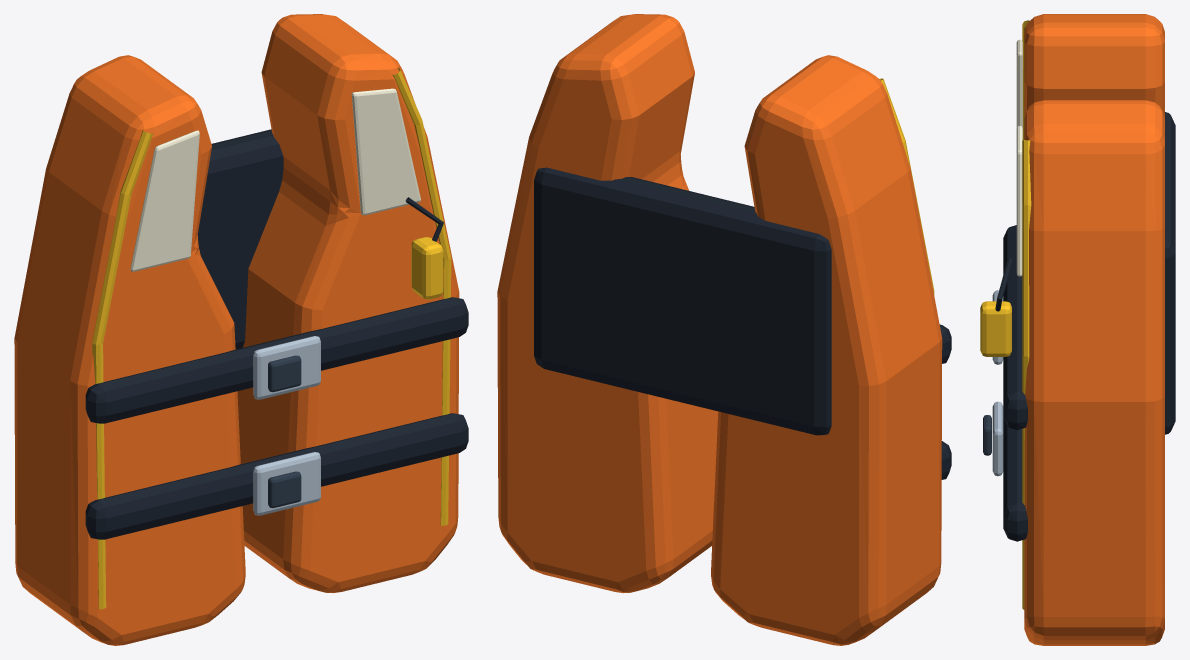
Rendered from LifeJacket.fbx.
3 views of the same model, side by side, from view 1: azimuth 30°, elevation 25°; view 2: azimuth 150°, elevation 25°; view 3: azimuth 270°, elevation 25° (orthographic). The views are drawn at different scales.
Visible parts, largest first — view 1: LifeJacket; view 2: LifeJacket; view 3: LifeJacket.
Boxes of the visible parts, x1,y1,x2,y2 form: LifeJacket: (14,14,468,645); LifeJacket: (497,14,951,645); LifeJacket: (980,14,1175,645).
Bounding box in the file's own units: 1.22 × 1.61 × 0.555.
